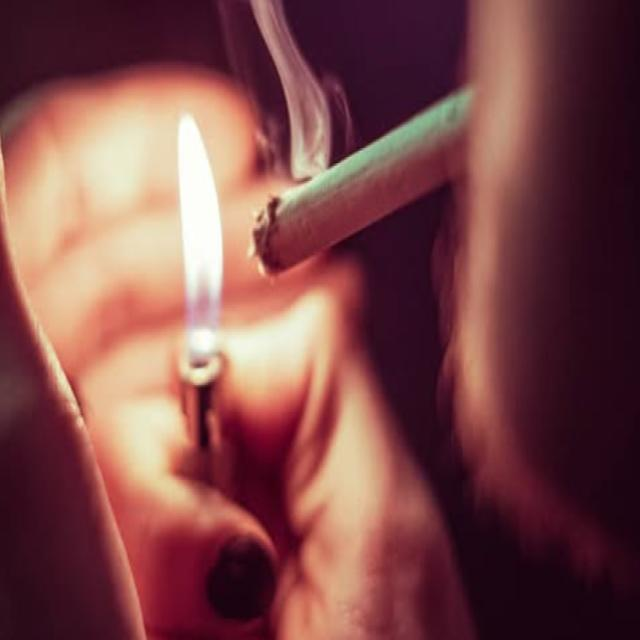fire: (177, 115, 223, 361)
